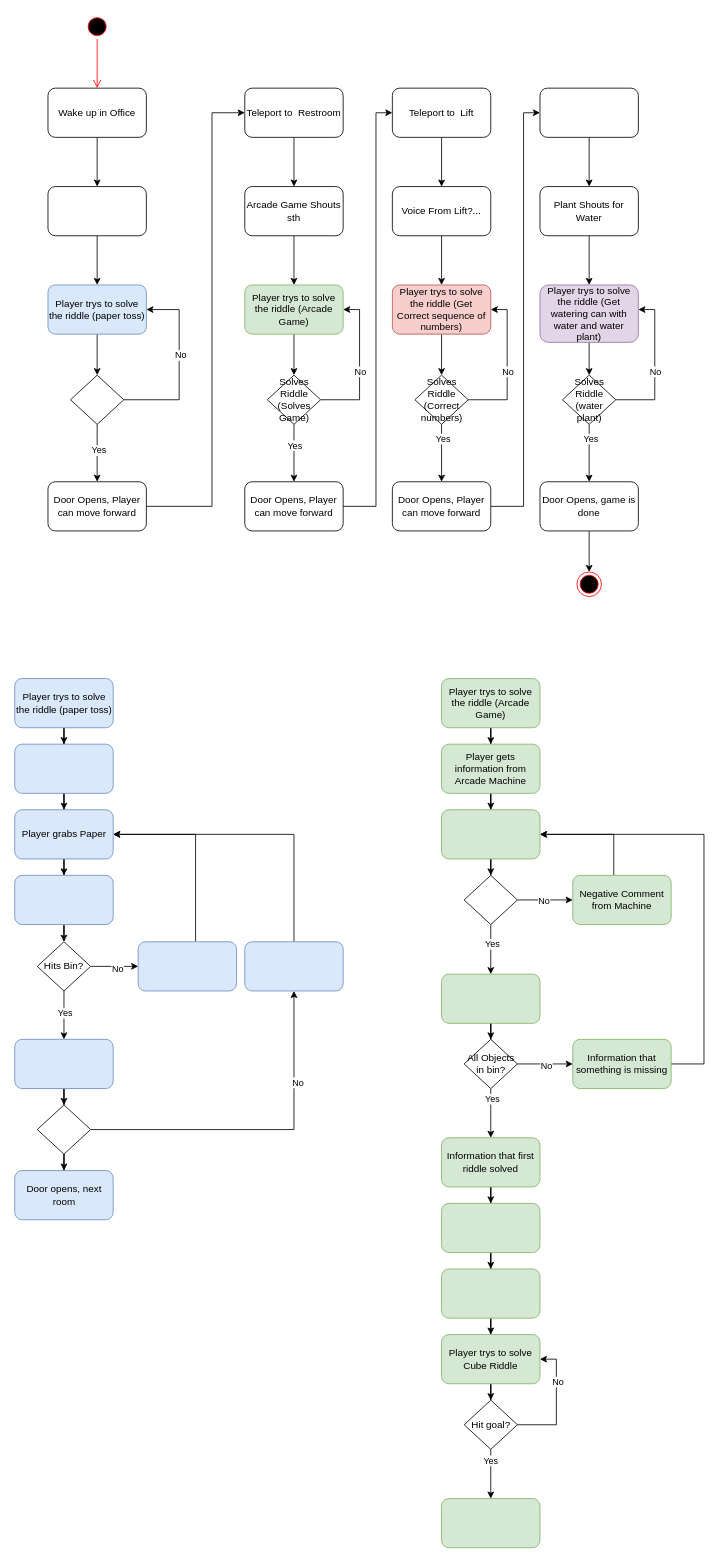
The diagram is 725 pixels wide and 1562 high, and some of its shapes have lost their labels. The box of each missing label's shape, as (x1, y1, x2, y2) in pixels:
fitting Object: (463, 875, 517, 925)
Get Information from Computer Screen: (47, 186, 146, 236)
Got 10 Hits: (36, 1104, 91, 1154)
Negative Comment from Computer: (137, 941, 237, 991)
Player gets information from Computer: (14, 743, 113, 793)
Player hears voice from Arcade Game with informations: (441, 1268, 540, 1318)
player throws objects in bin: (441, 809, 540, 859)
Player throws Paper: (14, 875, 113, 925)
Positive Comment from Computer: (244, 941, 343, 991)
Positive Comment from Machine: (441, 973, 540, 1023)
Solves Riddle (Hits Bin): (70, 374, 124, 424)
Teleport to Lobby: (539, 87, 638, 137)
Teleport to next room: (441, 1498, 540, 1548)
teleportation in arcade Game: (441, 1203, 540, 1253)
Update Count: (14, 1039, 113, 1089)
